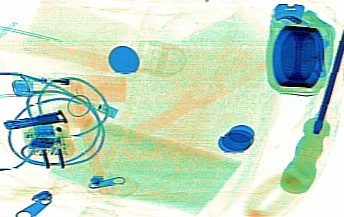lighter: (11, 72, 126, 101)
